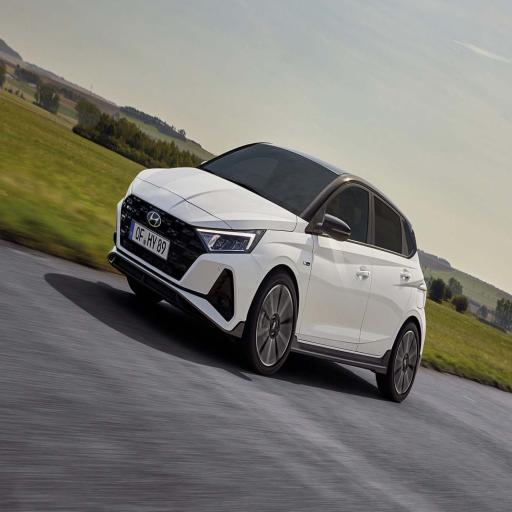License: (124, 212, 175, 268)
